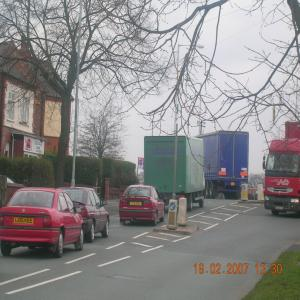Vehicle-registration-plate: (15, 217, 34, 224)
